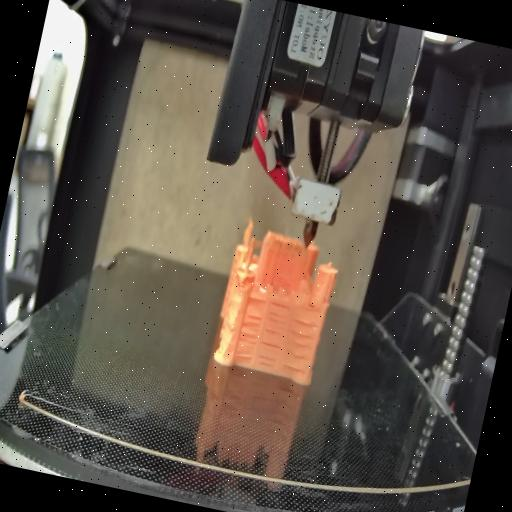cracks: (282, 314, 318, 372), (234, 308, 263, 362), (263, 299, 290, 337), (254, 340, 282, 370), (248, 294, 267, 306), (304, 298, 317, 310)
